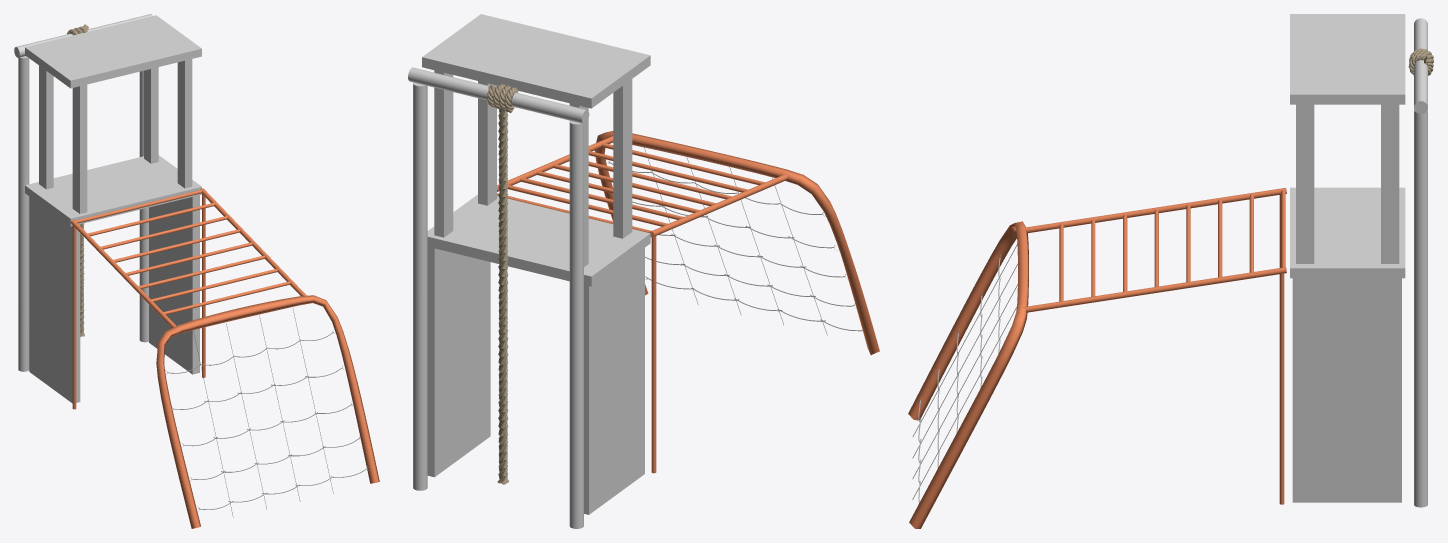
File: climbbar.glb
3 renders of one model, left to right at view 1: azimuth 30°, elevation 25°; view 2: azimuth 150°, elevation 25°; view 3: azimuth 270°, elevation 25°, orthographic. The views are drawn at different scales.
Parts seen in each view (by area): view 1: polySurface2; view 2: polySurface2; view 3: polySurface2.
Part boxes in pixels (x1,y1,x2,y2): polySurface2: (14,14,379,528); polySurface2: (408,14,879,528); polySurface2: (908,14,1433,528).
Size of the model in its own units: 52.21 by 87.4 by 98.97.
